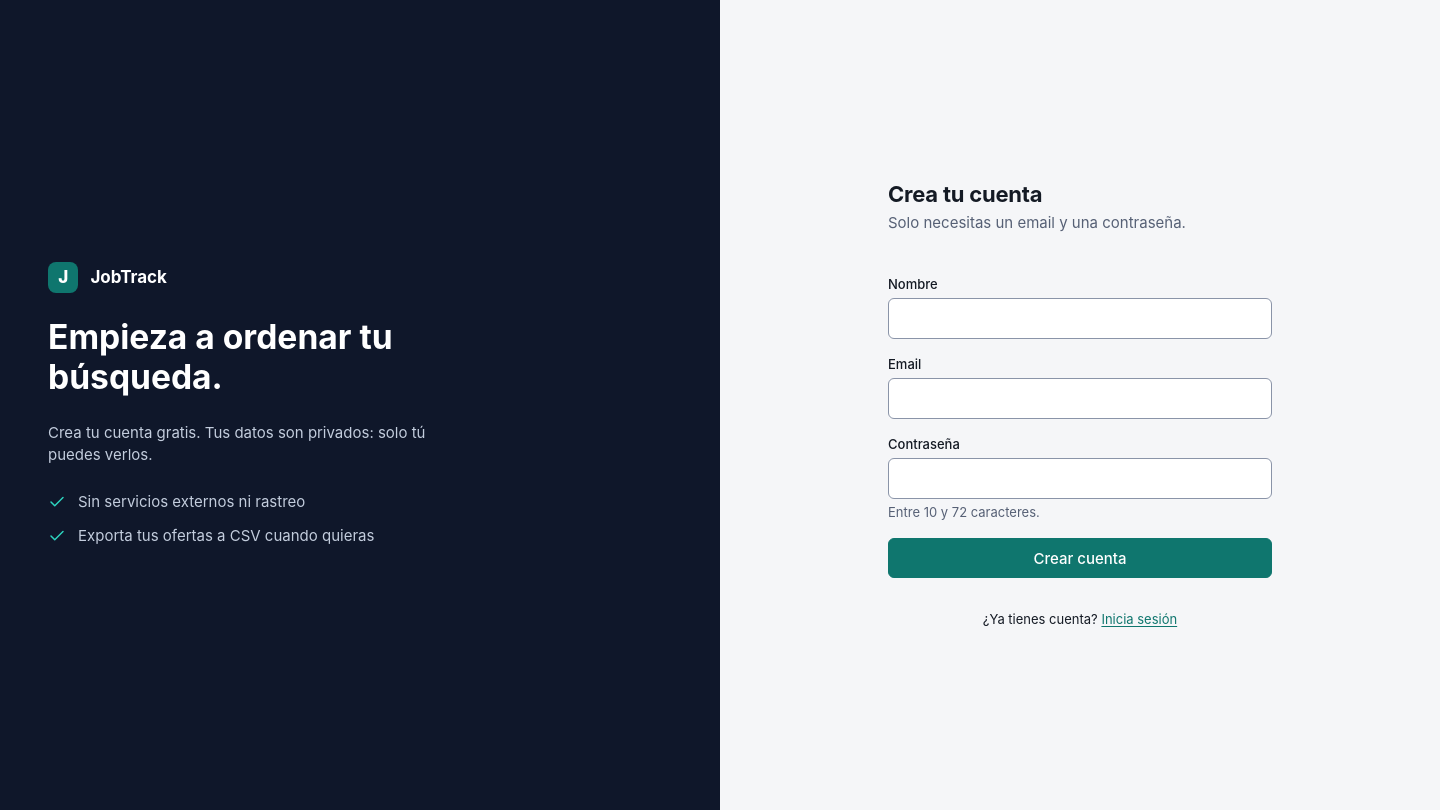
RegisterComponent › informa de que el email ya existe (409)
Type "Ana" into the field with id "displayName" at (1080, 318), box [888,298,1272,338]
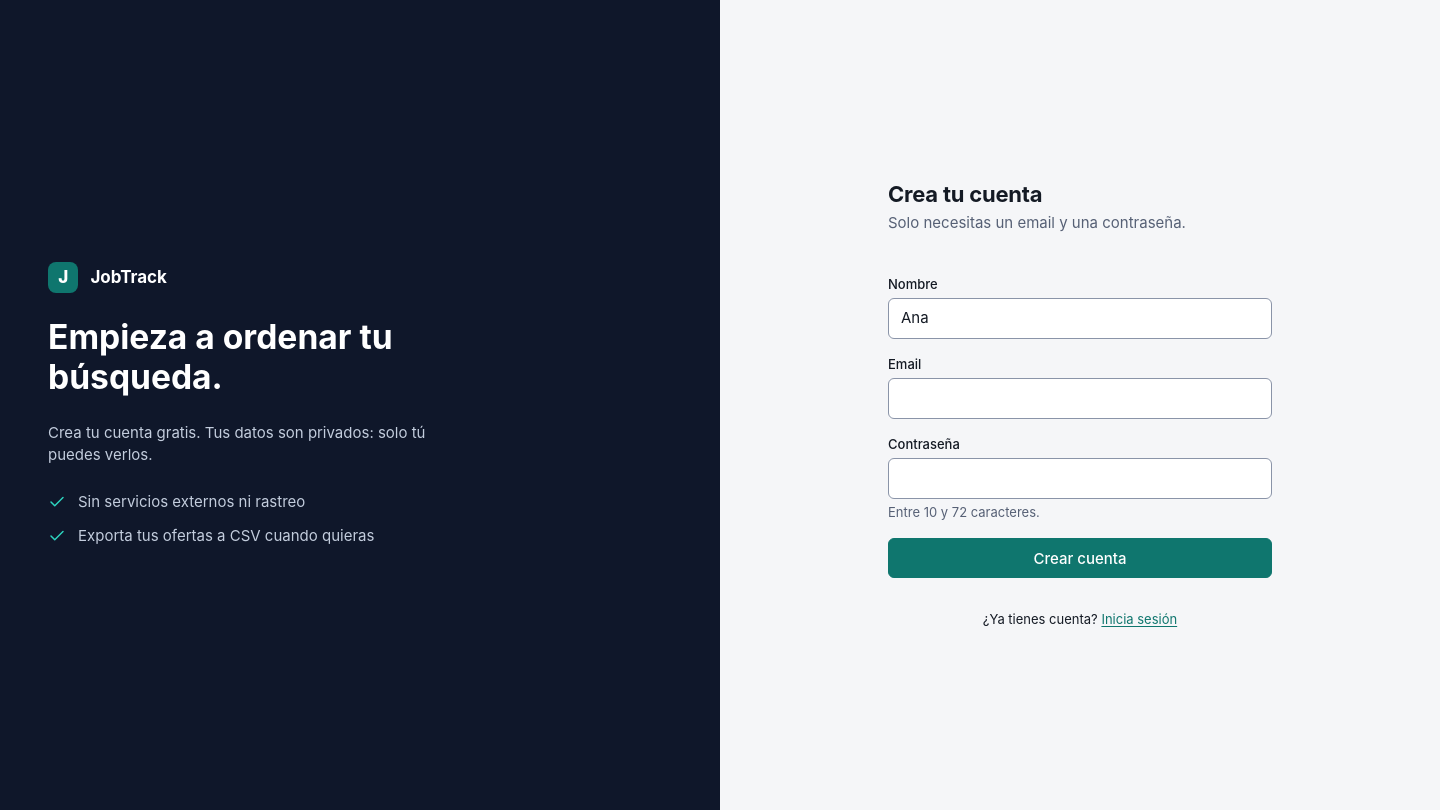
Type "ana@example.com" into the field labelled "Email" at (1080, 398), box [888,378,1272,418]
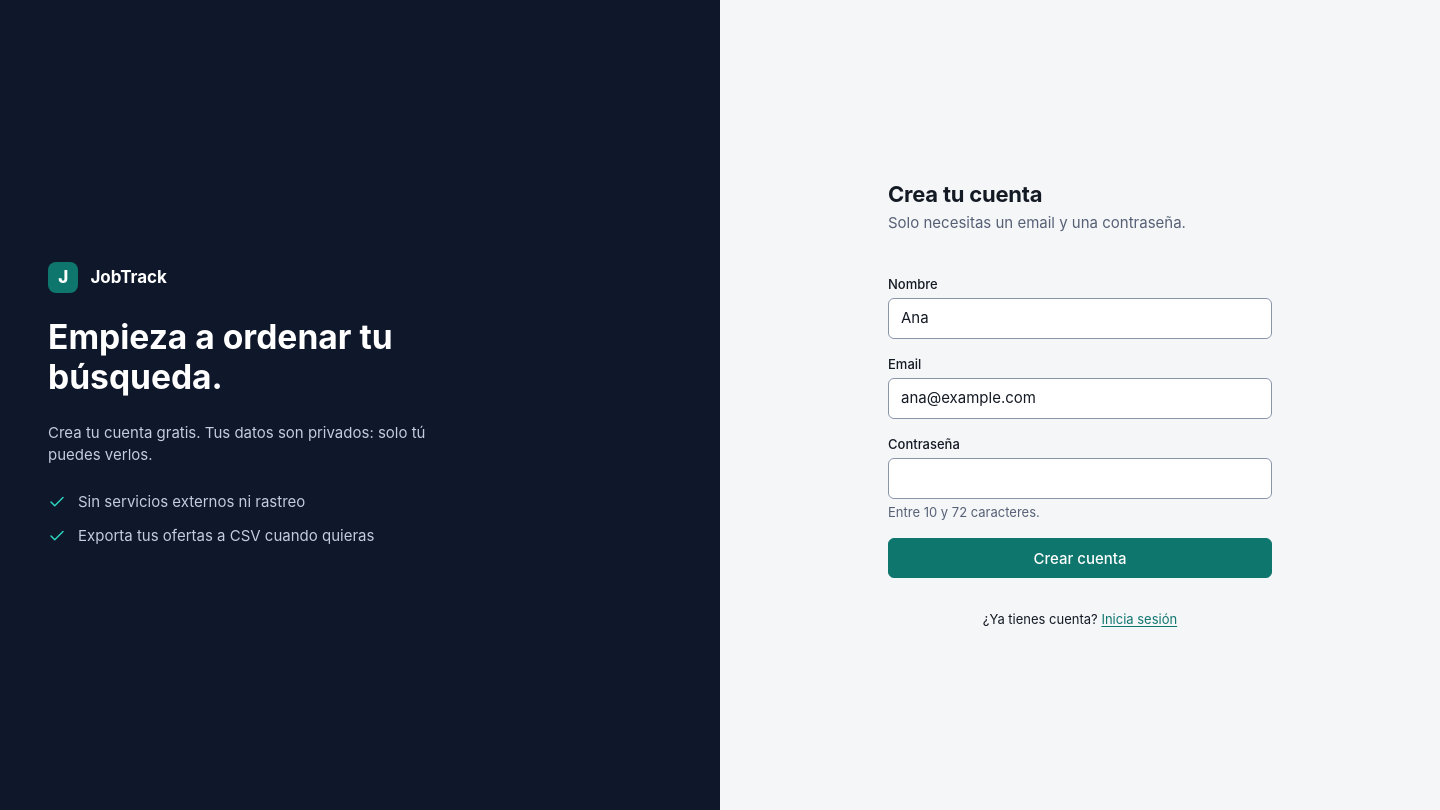
Type "una-contraseña-larga" into the password field labelled "Contraseña" at (1080, 478), box [888,458,1272,498]
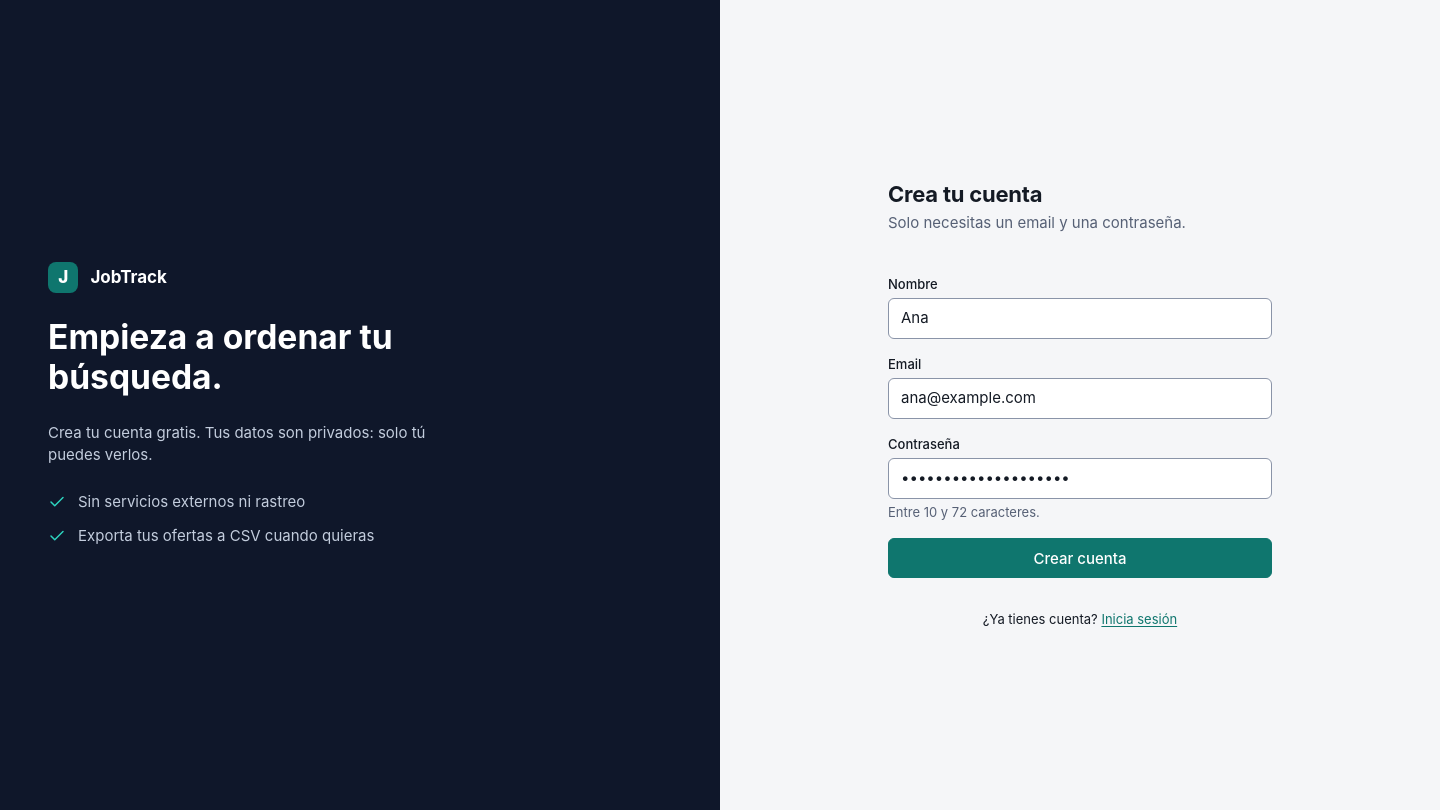
Submit the form, box [888,180,1272,630]
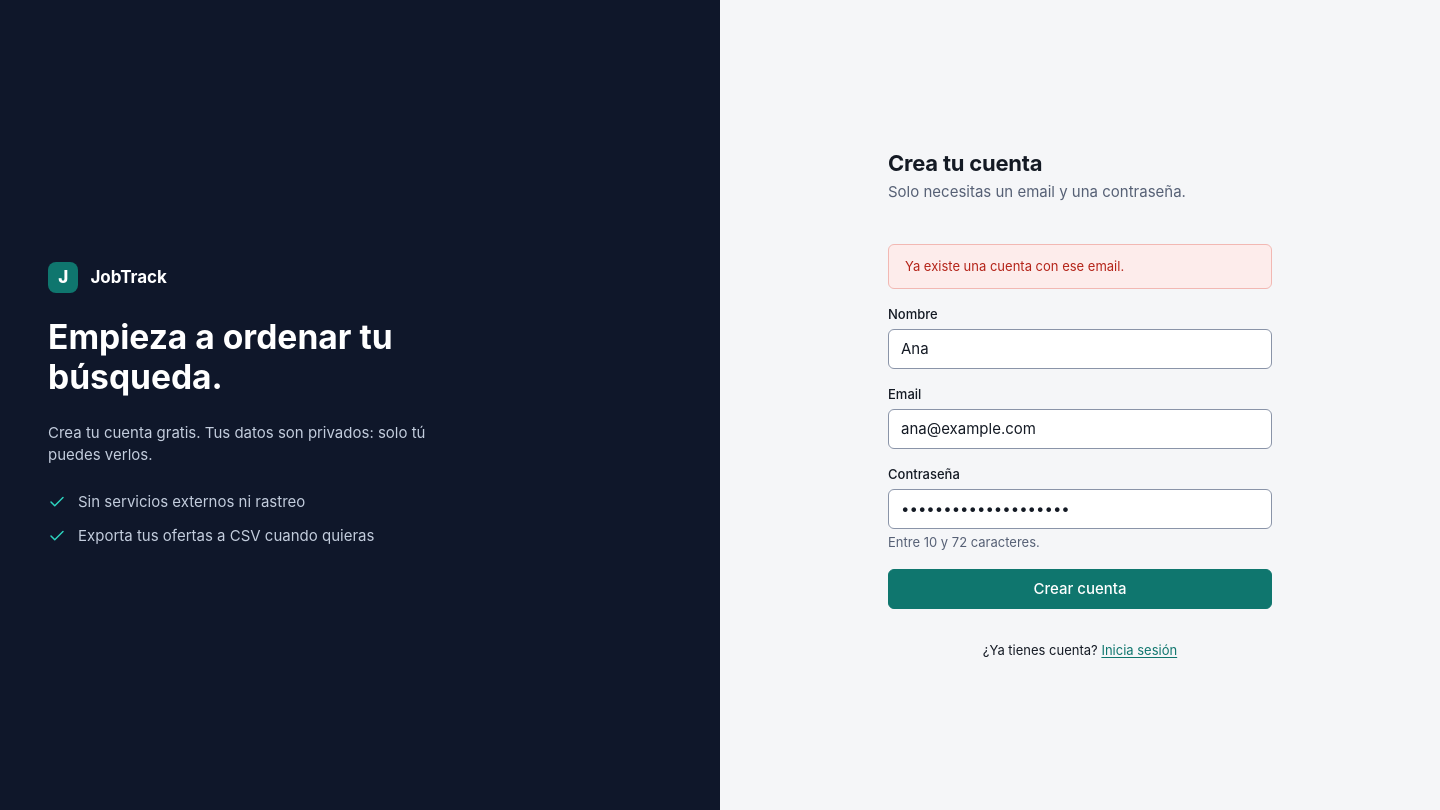
Check: the message "Ya existe una cuenta con ese email." is shown, box [888,244,1272,289]
